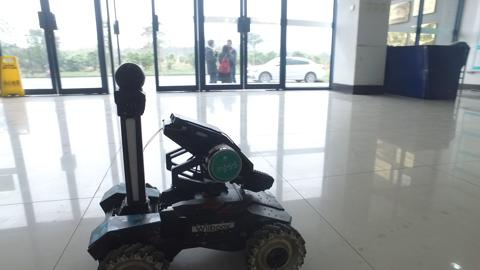chariot: (82, 59, 317, 270)
